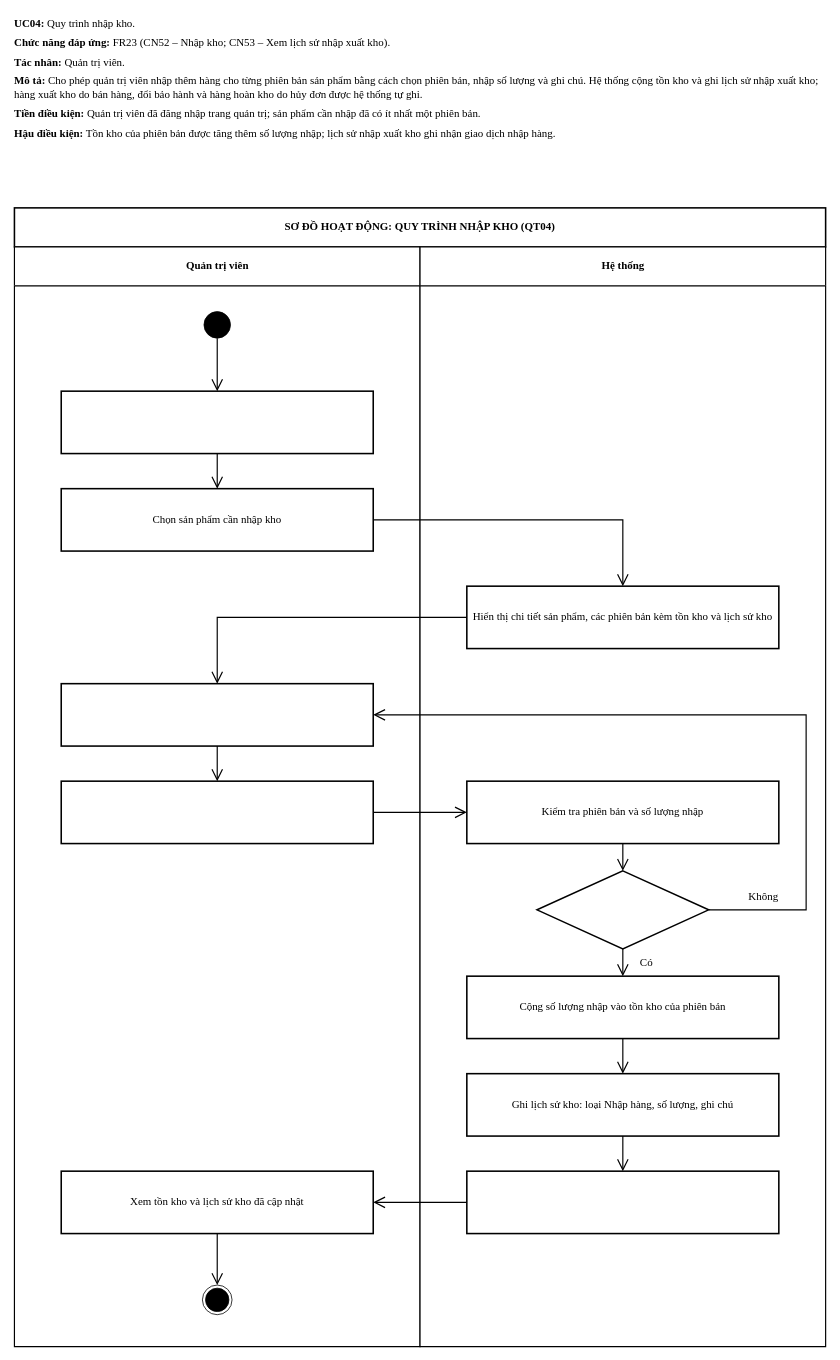
The diagram is 840 pixels wide and 1360 high, and some of its shapes have lost their labels. The centre of each missing label's shape, as x and y in pixels:
Chọn "Nhập kho": point (217, 812)
Chọn phiên bản, nhập số lượng và ghi chú: point (217, 714)
Hiển thị tồn kho, lịch sử kho mới và báo cập nhật thành công: point (622, 1202)
Mở danh sách sản phẩm, tìm sản phẩm cần nhập hàng: point (217, 422)
Thông tin hợp lệ?: point (622, 909)
